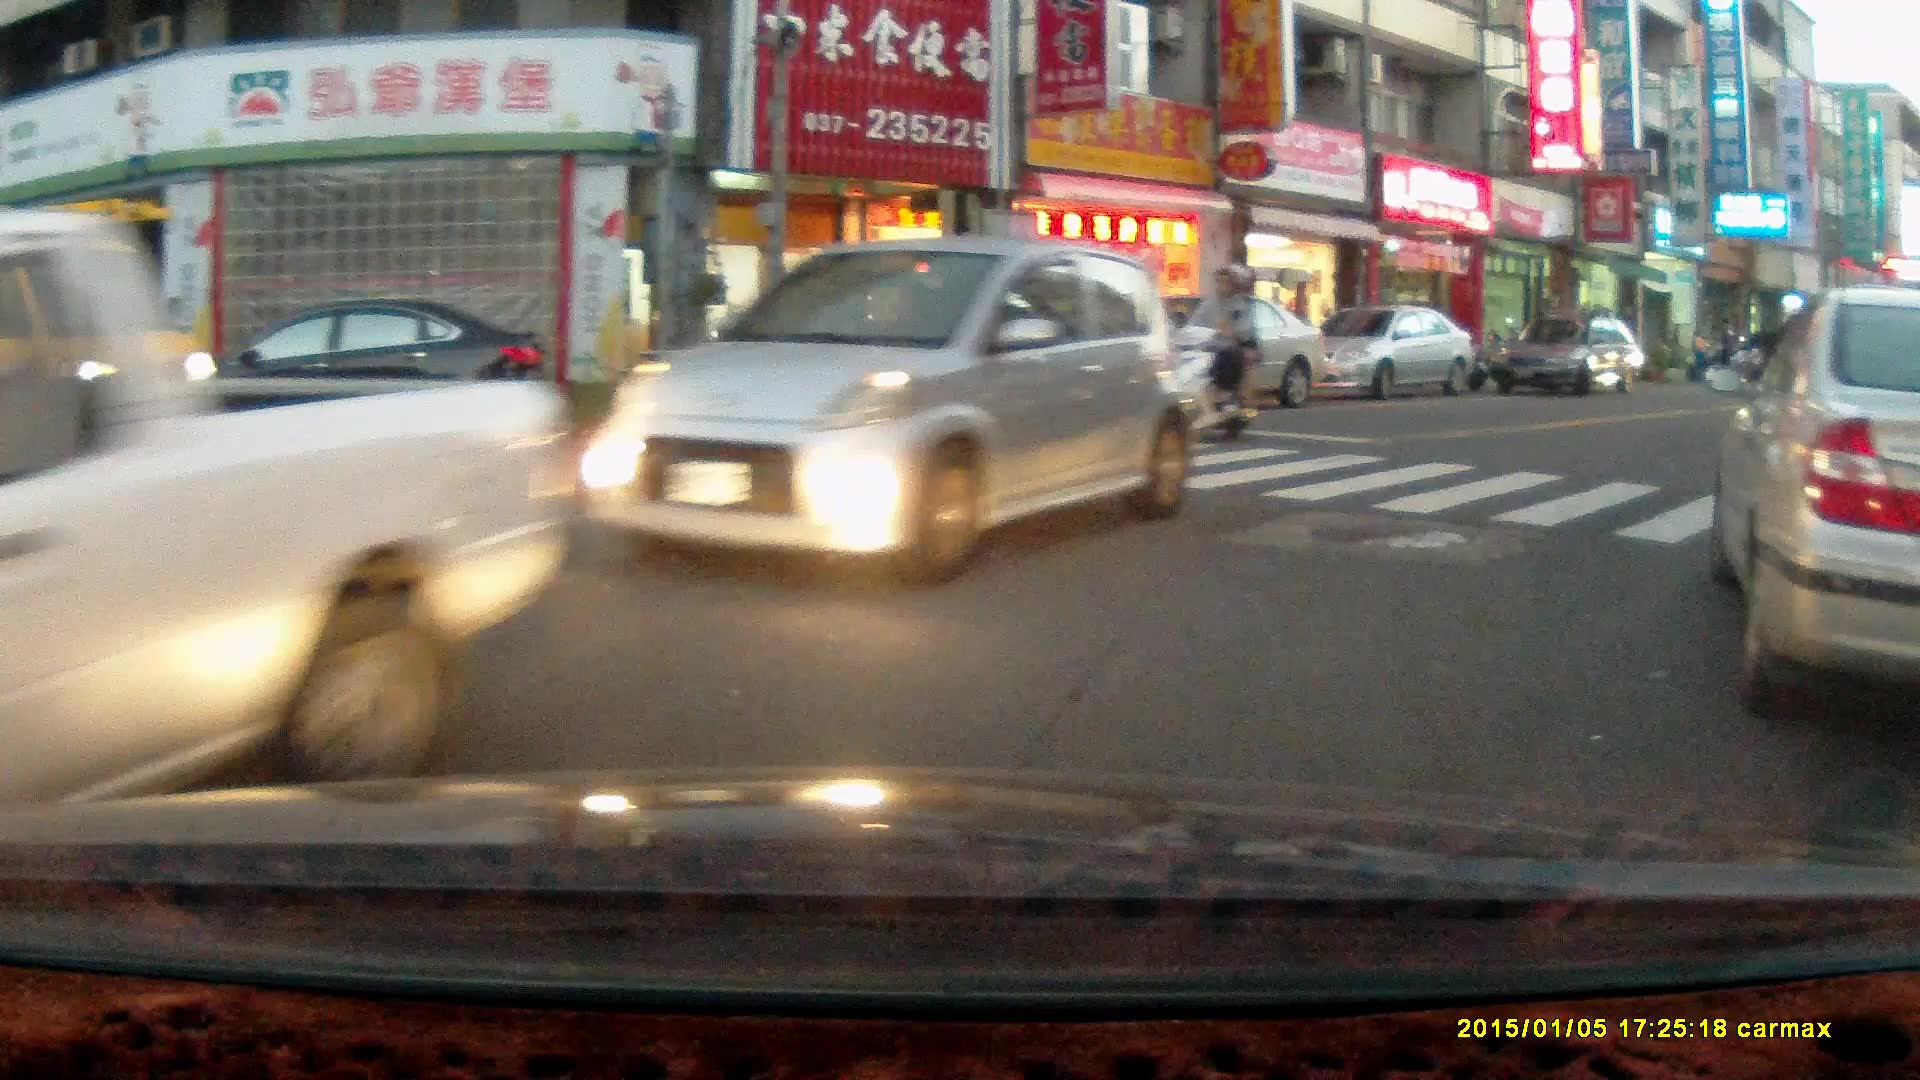rider: (1144, 260, 1262, 446)
vehicle: (1, 290, 580, 811), (572, 241, 1200, 584), (1709, 283, 1920, 738), (212, 293, 548, 447), (1129, 293, 1320, 414), (1301, 305, 1475, 398), (1488, 316, 1650, 398)
